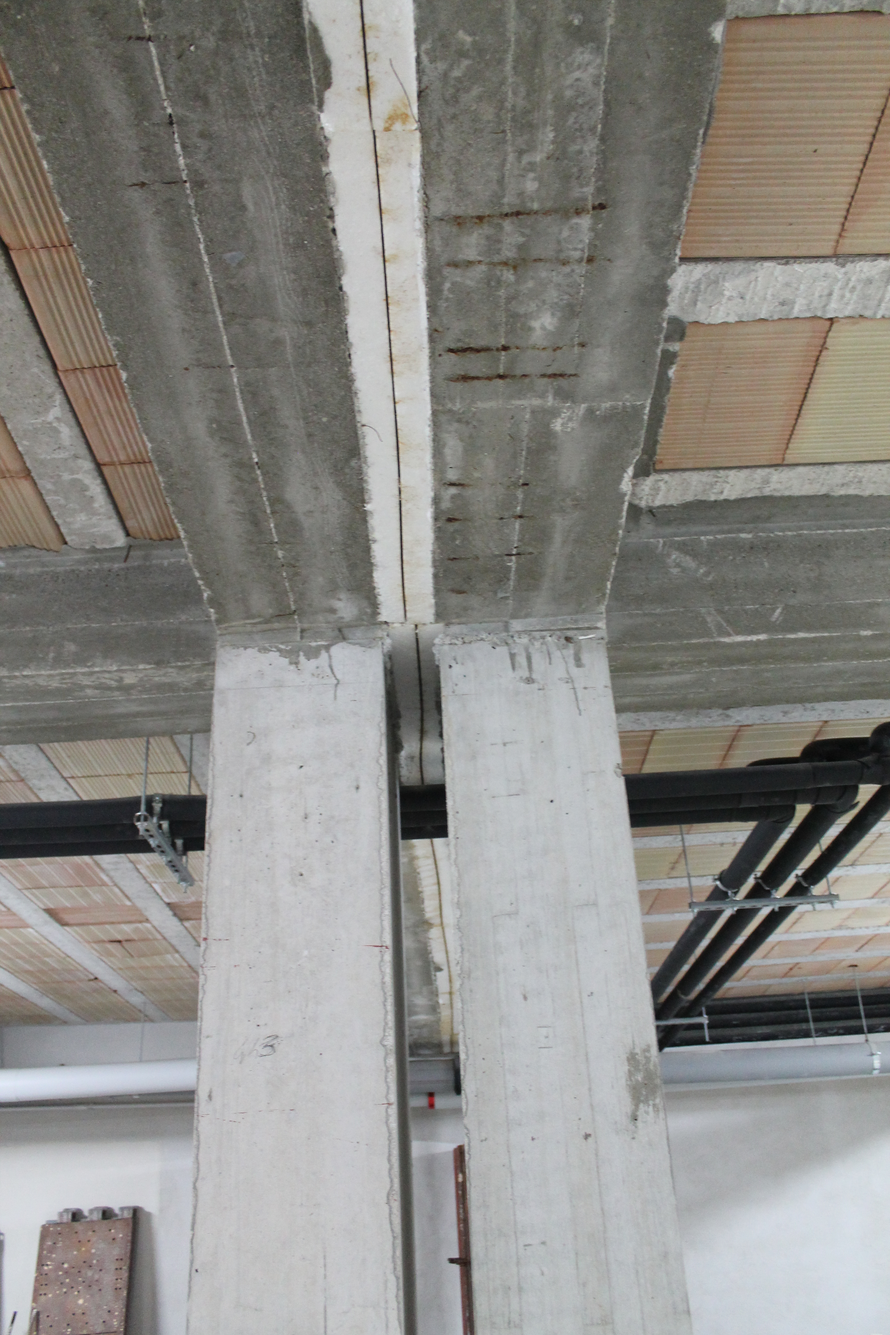Corrosion/Exposed rebar: (432, 157, 621, 605), (87, 19, 221, 207)
